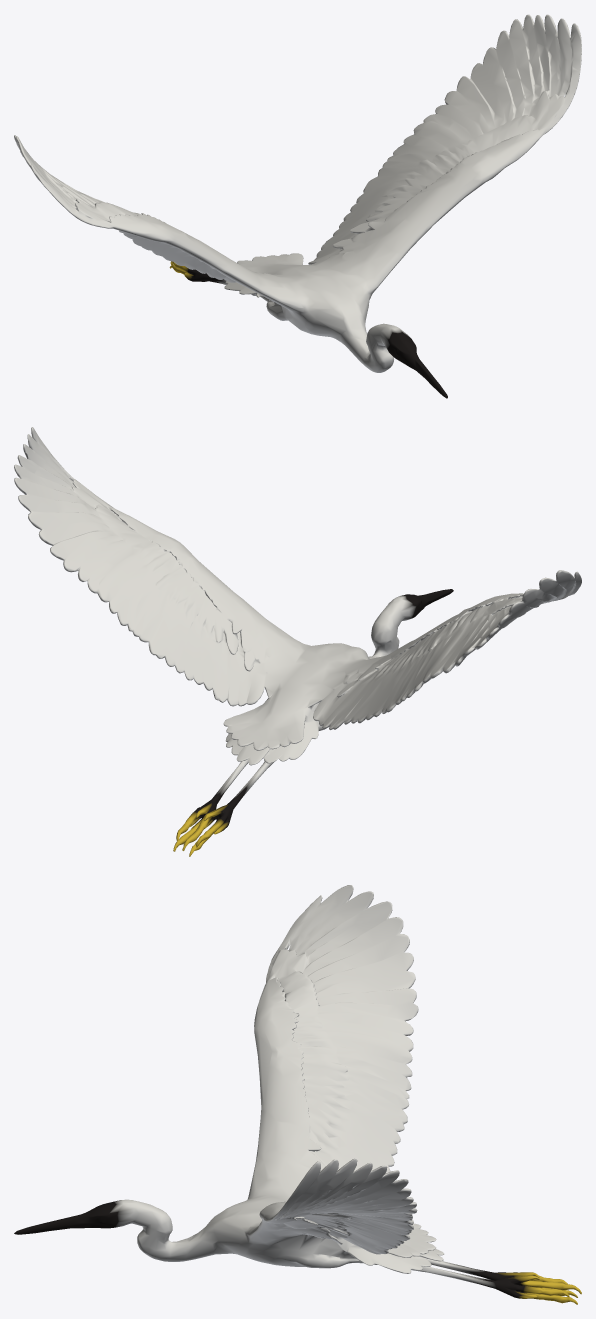
Rendered from egretFly.glb.
The picture shows the model from 3 angles, top to bottom: view 1: azimuth 30°, elevation 25°; view 2: azimuth 150°, elevation 25°; view 3: azimuth 270°, elevation 25°; orthographic projection. The views are drawn at different scales.
Parts seen in each view (by area): view 1: egretFly; view 2: egretFly; view 3: egretFly.
Part boxes in pixels (box(x1,y1,x2,y2)): egretFly: box(14, 14, 581, 398); egretFly: box(14, 427, 581, 856); egretFly: box(14, 885, 581, 1304).
Bounding box in the file's own units: 3.42 × 1.61 × 2.96.
